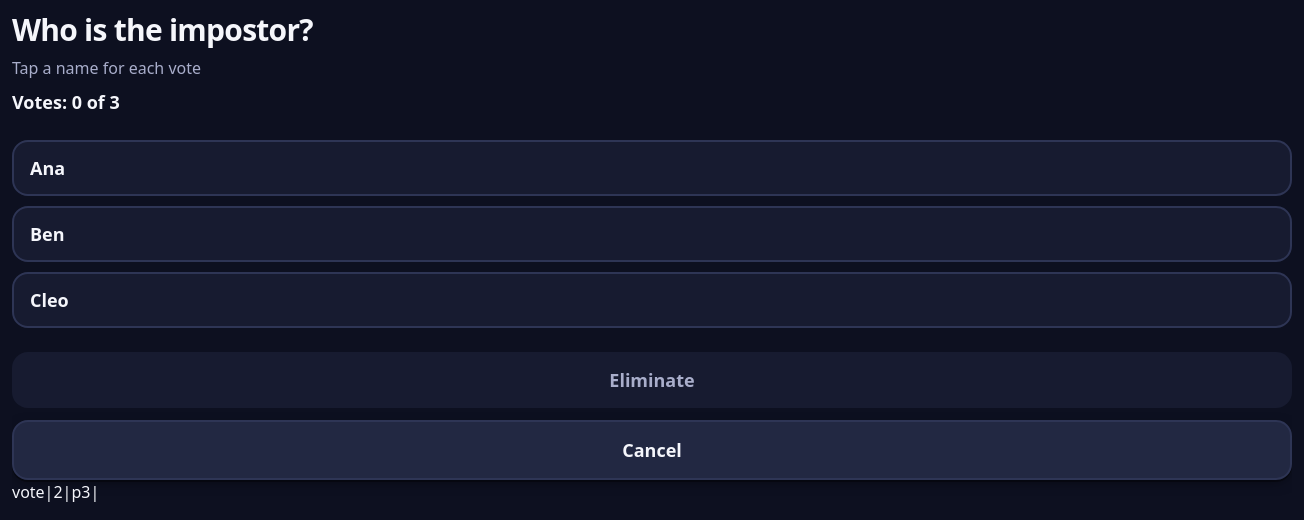
Test: VoteScreen tally › cancels back to the same round without eliminating anyone
Click the button "Ana".
click(48, 168)  # box [12, 140, 1292, 196]
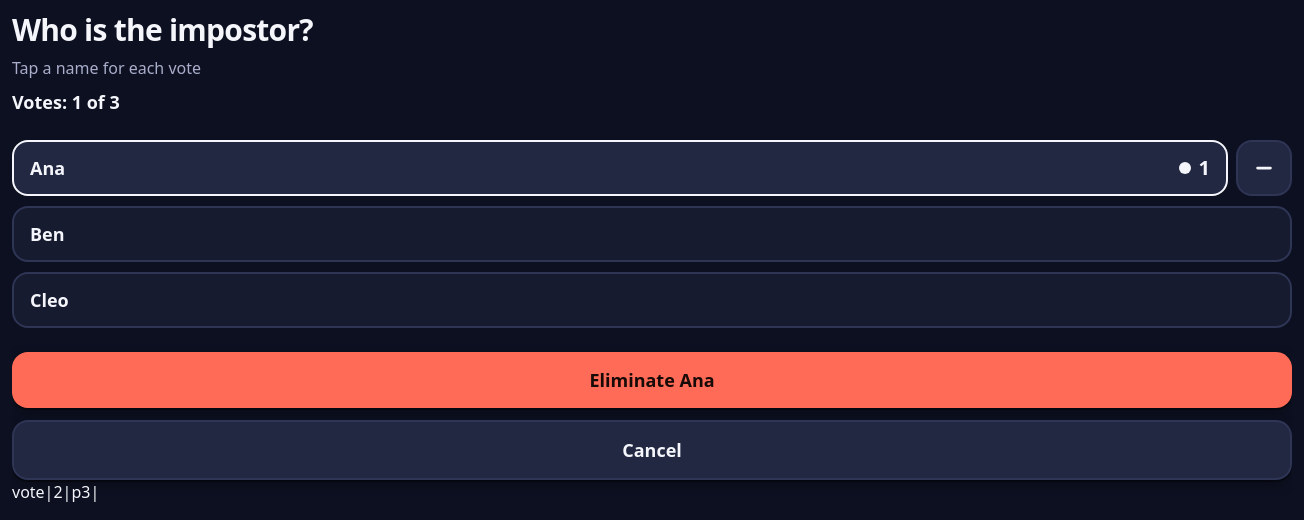
Click the button "Cancel".
click(652, 450)  # box [12, 420, 1292, 480]
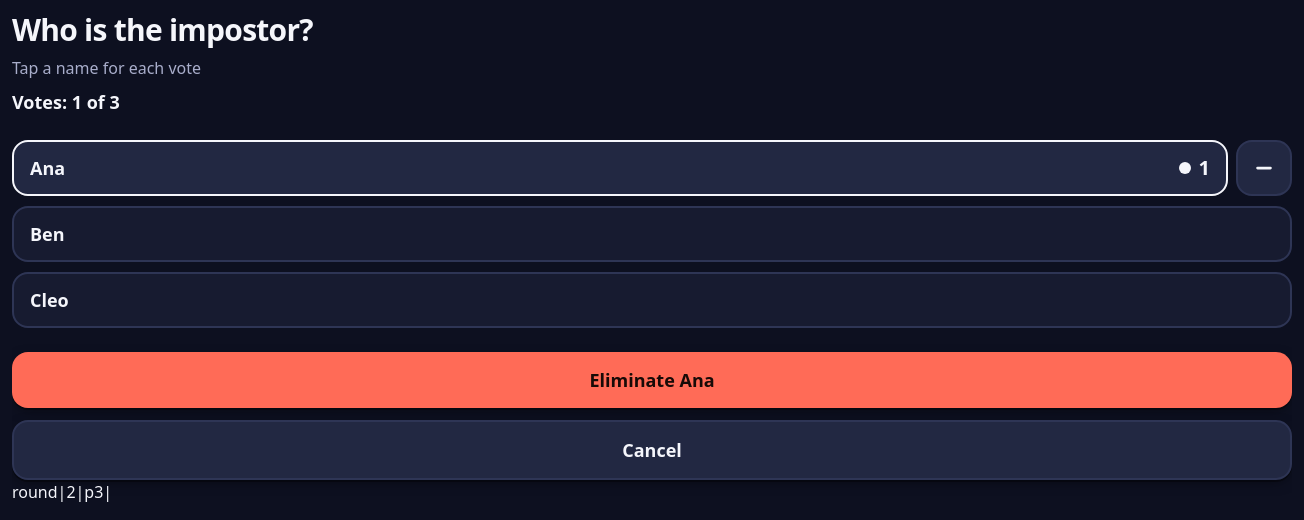
Expected: the text with test id "probe" reads "round|2|p3|", [12, 481, 112, 503]
